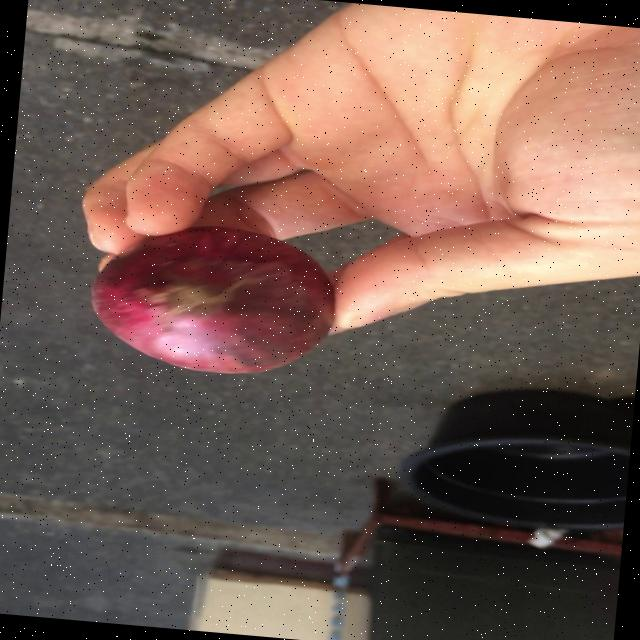Onion: (91, 224, 333, 372)
